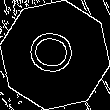O_E: (26, 29, 84, 81)
